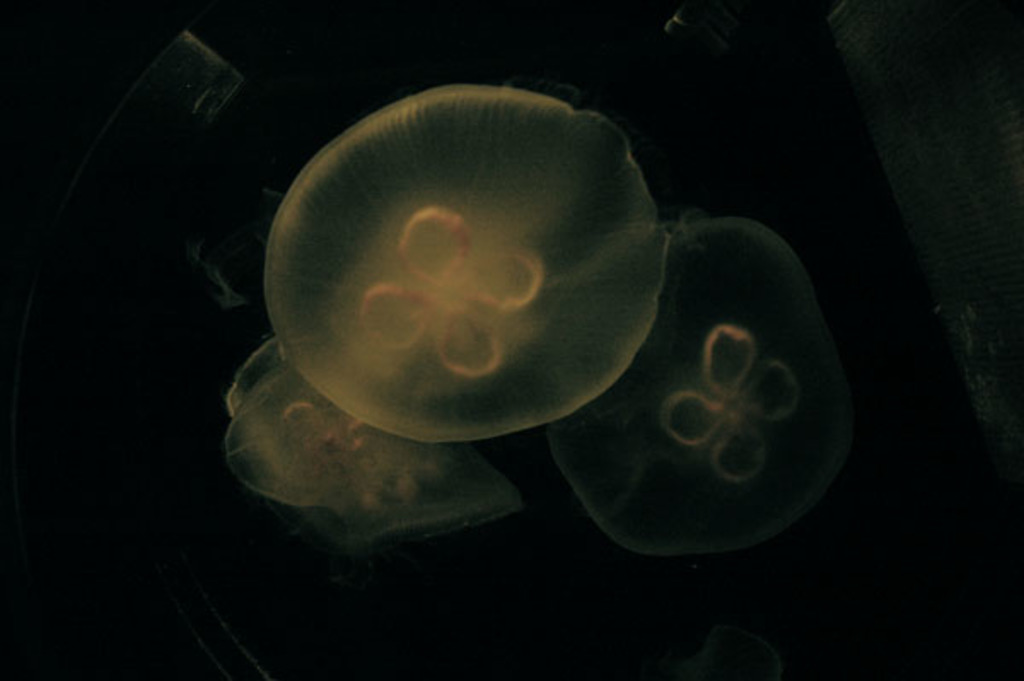Jellyfish: (259, 80, 672, 445), (539, 209, 860, 556), (215, 339, 532, 552)
